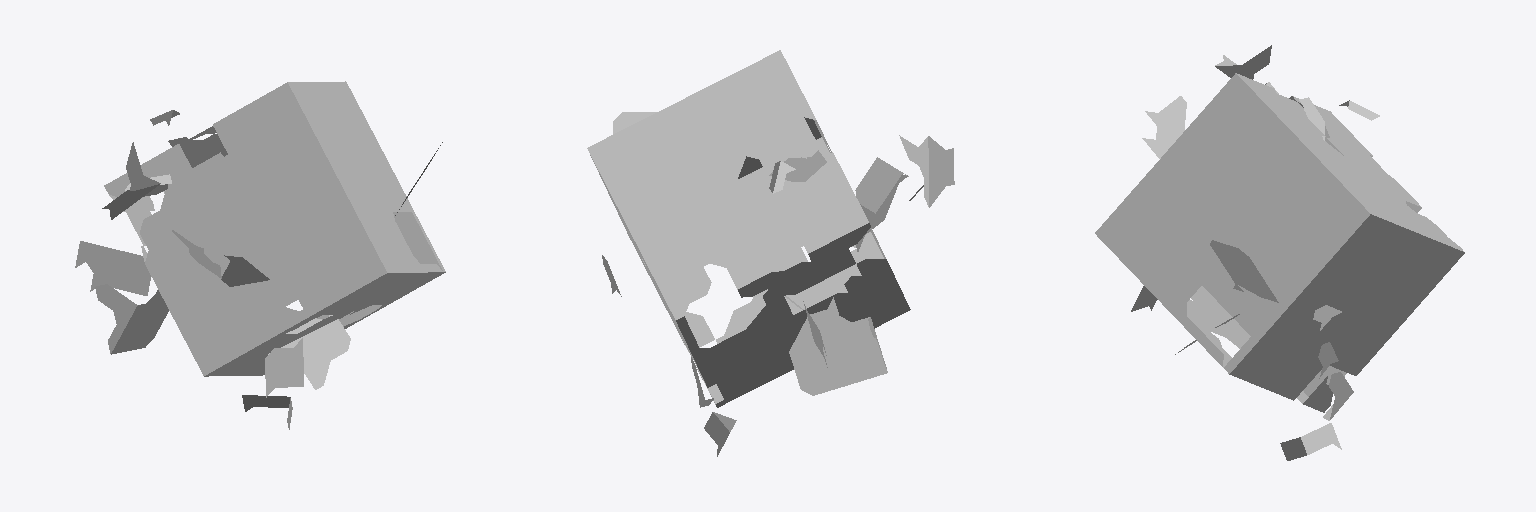
File: explode_000022.obj
The picture shows the model from 3 angles: view 1: azimuth 30°, elevation 25°; view 2: azimuth 150°, elevation 25°; view 3: azimuth 270°, elevation 25°; orthographic projection.
Visible parts, largest first — view 1: Cube_Cube.001; view 2: Cube_Cube.001; view 3: Cube_Cube.001.
Part boxes in pixels (x1,y1,x2,y2): Cube_Cube.001: (75, 81, 445, 429); Cube_Cube.001: (587, 50, 954, 456); Cube_Cube.001: (1095, 45, 1464, 460).
Size of the model in its own units: 3.62 by 3.81 by 3.42.